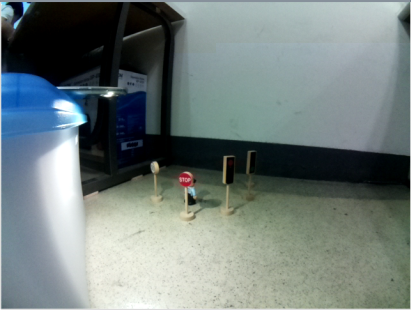Green: (245, 149, 259, 176)
Red: (221, 154, 236, 186)
Stop: (178, 171, 193, 188)
